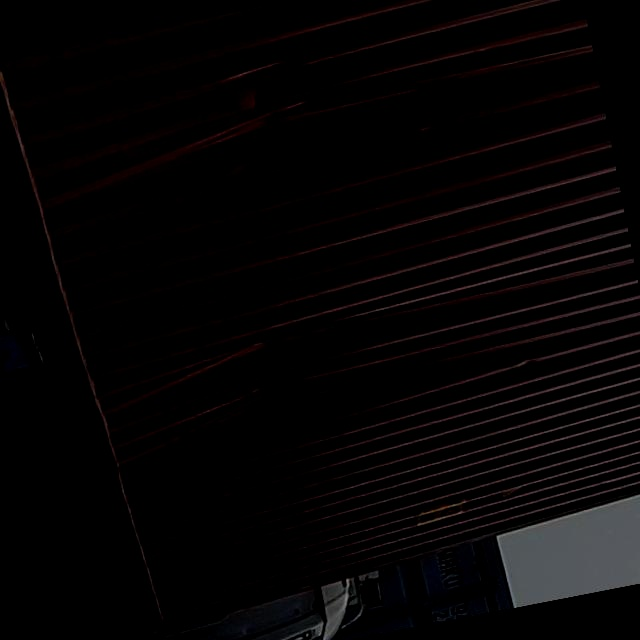Dent: (165, 287, 472, 462), (148, 64, 444, 208)
